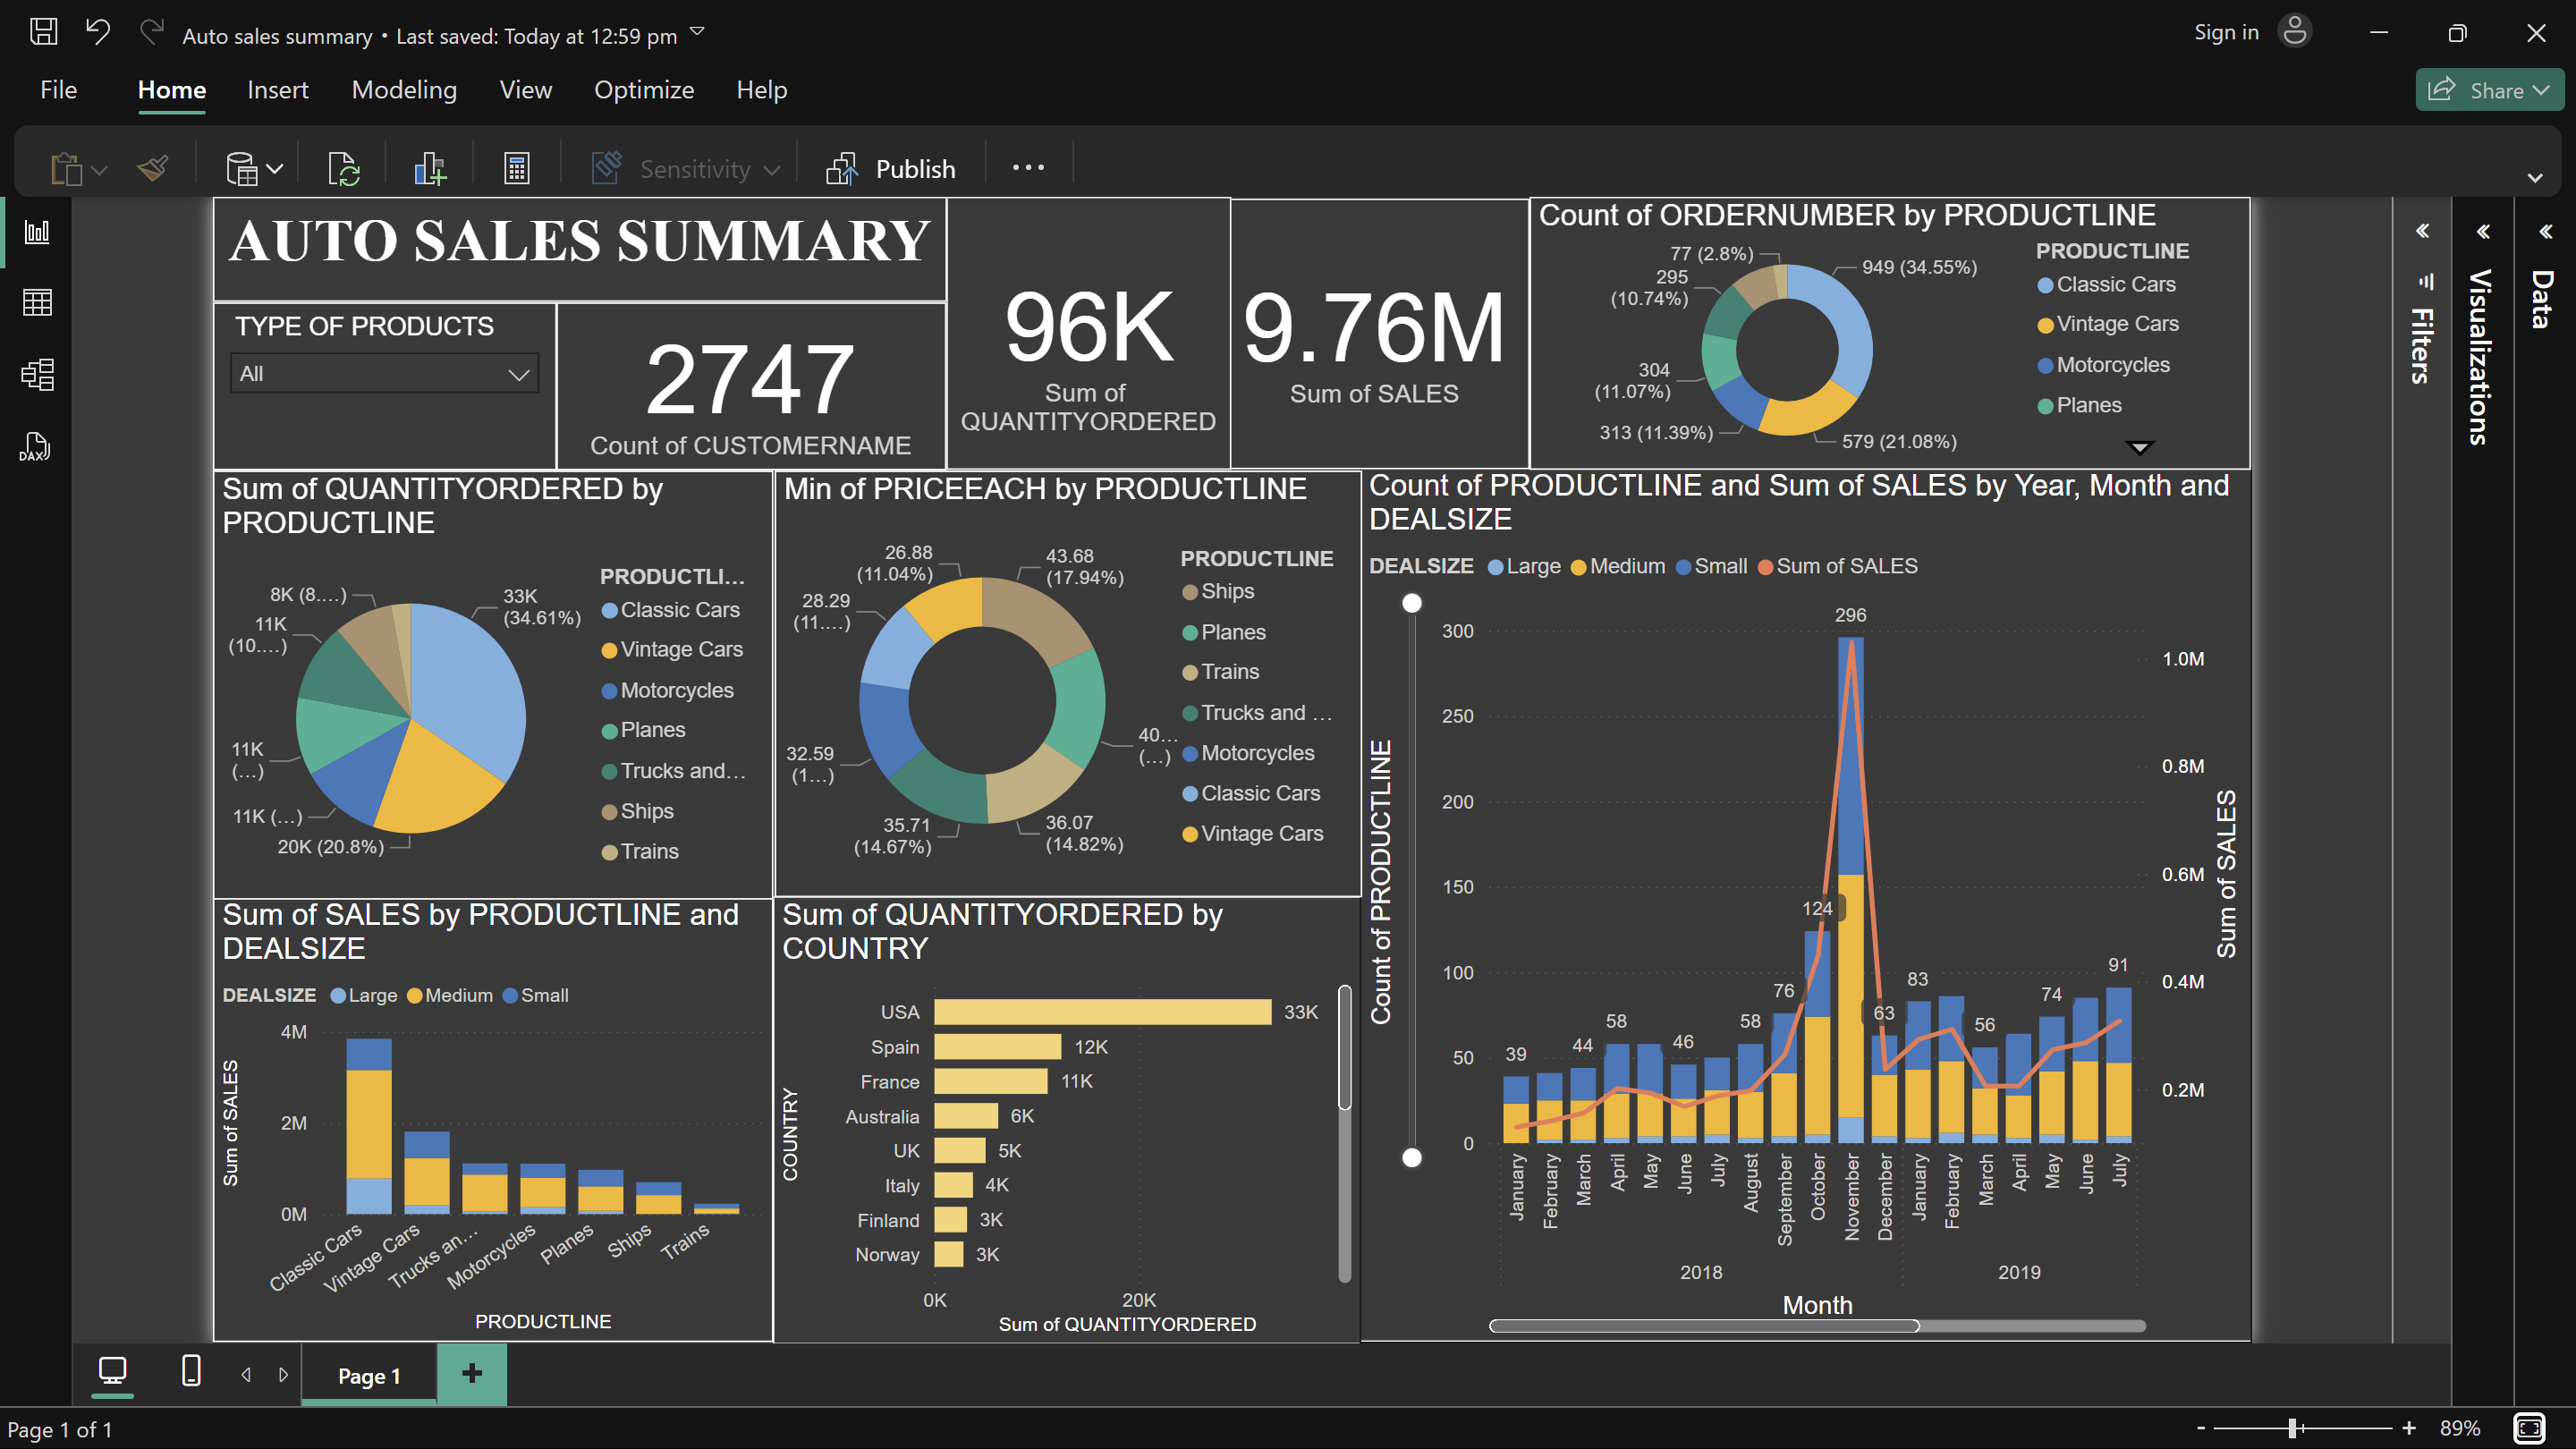

This screenshot's page, from the dashboard's own definition file:
{"tool":"powerbi","page":{"name":"Page 1","canvas":[1280,720],"ordinal":0},"visuals":[{"type":"columnChart","fields":{"Category":["Auto Sales data.PRODUCTLINE"],"Y":["Sum(Auto Sales data.SALES)"],"Series":["Auto Sales data.DEALSIZE"]},"box":[0,439.4,352.2,280.2],"z":0},{"type":"clusteredBarChart","fields":{"Category":["Auto Sales data.COUNTRY"],"Y":["Sum(Auto Sales data.QUANTITYORDERED)"]},"box":[352.2,441,369,280.2],"z":1000},{"type":"lineStackedColumnComboChart","fields":{"Category":["Auto Sales data.ORDERDATE.Variation.Date Hierarchy.Year","Auto Sales data.ORDERDATE.Variation.Date Hierarchy.Month"],"Series":["Auto Sales data.DEALSIZE"],"Y2":["Sum(Auto Sales data.SALES)"],"Y":["CountNonNull(Auto Sales data.PRODUCTLINE)"]},"box":[719.6,170,560.4,549.7],"z":2000},{"type":"donutChart","fields":{"Category":["Auto Sales data.PRODUCTLINE"],"Y":["Min(Auto Sales data.PRICEEACH)"]},"box":[352.2,171.5,369,267.9],"z":3000},{"type":"pieChart","fields":{"Category":["Auto Sales data.PRODUCTLINE"],"Y":["Sum(Auto Sales data.QUANTITYORDERED)"]},"box":[0,171.5,352.2,269.5],"z":4000},{"type":"card","fields":{"Values":["Sum(Auto Sales data.SALES)"]},"box":[632.3,1.5,194.4,170],"z":5000},{"type":"card","fields":{"Values":["Sum(Auto Sales data.QUANTITYORDERED)"]},"box":[460.9,0,179.1,171.5],"z":6000},{"type":"textbox","box":[0,0,460.9,65.8],"z":7000},{"type":"slicer","fields":{"Values":["Auto Sales data.PRODUCTLINE"]},"box":[0,65.8,215.9,105.6],"z":8000},{"type":"donutChart","fields":{"Category":["Auto Sales data.PRODUCTLINE"],"Y":["CountNonNull(Auto Sales data.ORDERNUMBER)"]},"box":[826.8,0,453.2,171.5],"z":9000},{"type":"card","fields":{"Values":["CountNonNull(Auto Sales data.CUSTOMERNAME)"]},"box":[215.9,65.8,245,105.6],"z":10000}]}

Visuals, with their boxes on the page's 1280x720 design canvas (x1, y1, x2, y2). These are canvas units, not pixel positions in the 2576x1449 screenshot, which may show the page scaled, cropped or inside an application window:
columnChart - Auto Sales data.PRODUCTLINE x Sum(Auto Sales data.SALES): 0 439 352 720
clusteredBarChart - Auto Sales data.COUNTRY x Sum(Auto Sales data.QUANTITYORDERED): 352 441 721 721
lineStackedColumnComboChart - Auto Sales data.ORDERDATE.Variation.Date Hierarchy.Year x Auto Sales data.ORDERDATE.Variation.Date Hierarchy.Month: 720 170 1280 720
donutChart - Auto Sales data.PRODUCTLINE x Min(Auto Sales data.PRICEEACH): 352 172 721 439
pieChart - Auto Sales data.PRODUCTLINE x Sum(Auto Sales data.QUANTITYORDERED): 0 172 352 441
card - Sum(Auto Sales data.SALES): 632 2 827 172
card - Sum(Auto Sales data.QUANTITYORDERED): 461 0 640 172
textbox: 0 0 461 66
slicer - Auto Sales data.PRODUCTLINE: 0 66 216 171
donutChart - Auto Sales data.PRODUCTLINE x CountNonNull(Auto Sales data.ORDERNUMBER): 827 0 1280 172
card - CountNonNull(Auto Sales data.CUSTOMERNAME): 216 66 461 171
